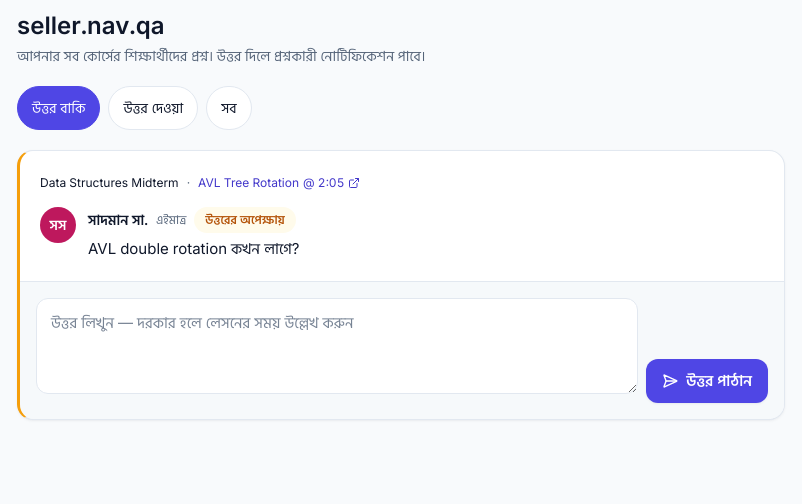
Test: Seller Q&A inbox › filters by status, links to the lesson Q&A tab and replies inline
Later steps or results of the test are not shown.
Expected: the text "AVL double rotation কখন লাগে?" is shown, [88,239,300,258]
Expected: the text "@ 2:05" is shown, [303,175,344,191]
Type "Left-Right বা Right-Left imbalance হলে।" into the text box named "সাদমান সা.-কে উত্তর দিন" at (337, 346), box [36,298,638,394]
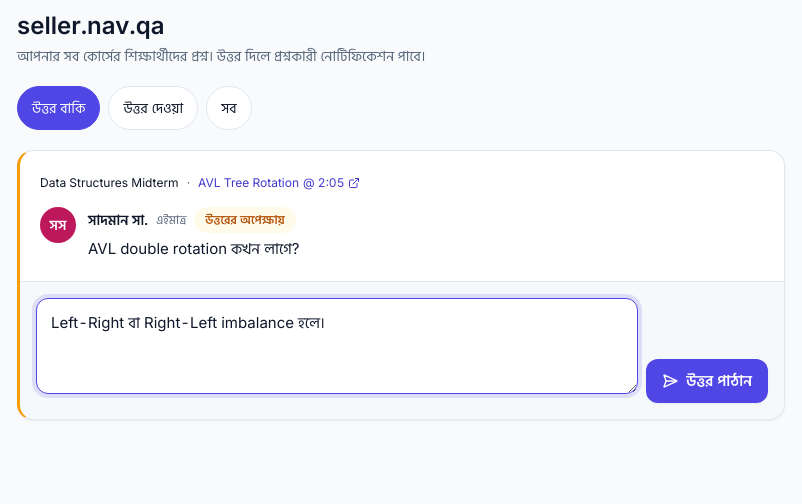
Click the button "উত্তর পাঠান" at (707, 381), box [646,359,768,403]
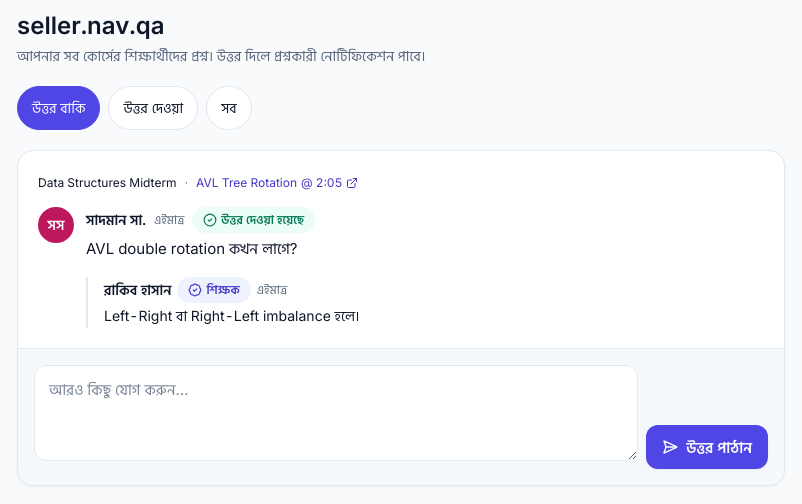
Result: the text "Left-Right বা Right-Left imbalance হলে।" is shown at [104,307,359,324]
Result: the text "শিক্ষক" is shown at [177,277,251,303]
Result: the text "উত্তর দেওয়া হয়েছে" is shown at [192,207,315,233]
